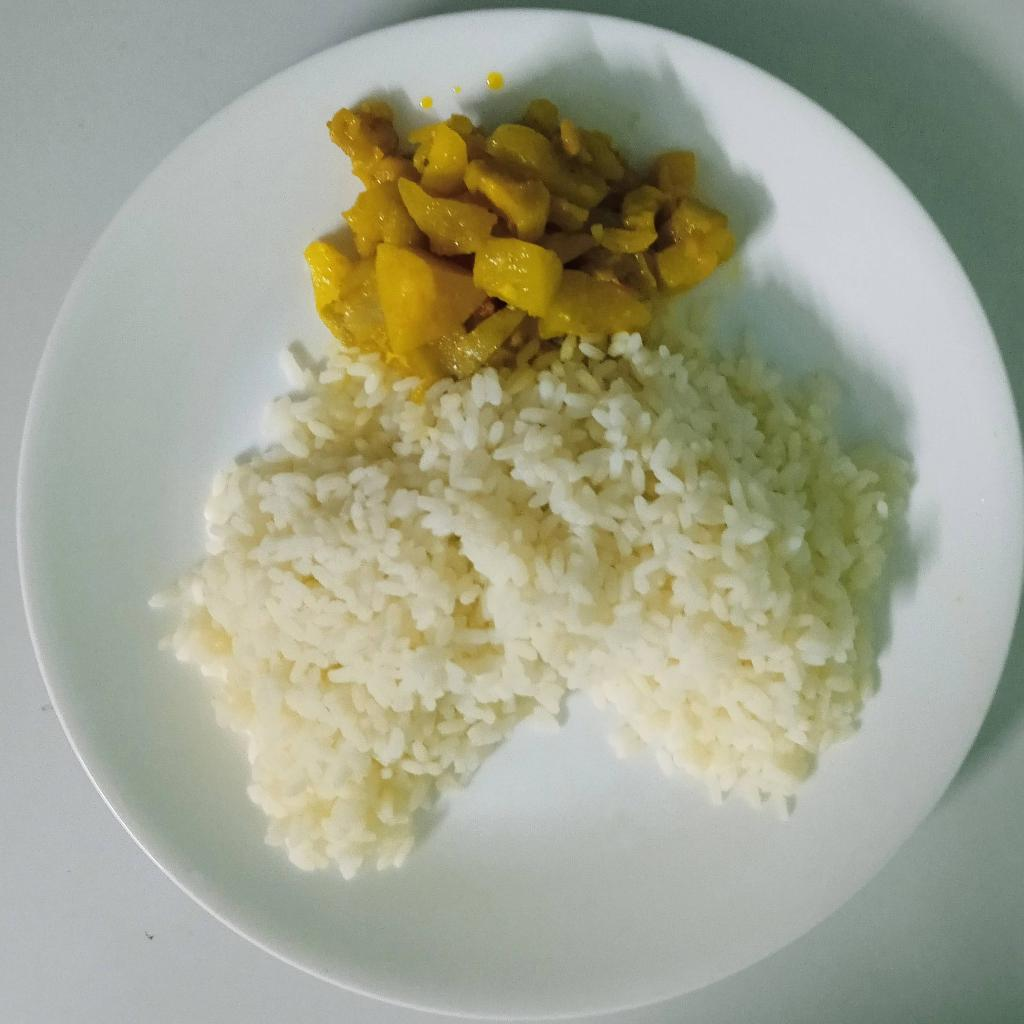lau: (306, 90, 743, 378)
rice: (151, 331, 895, 880)
